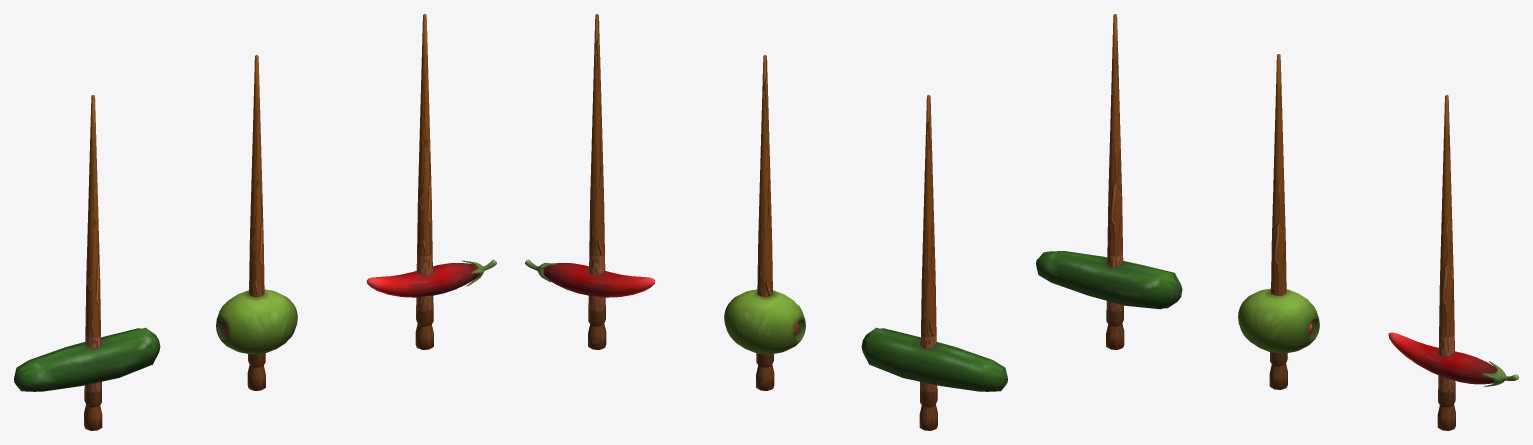
The model's file is SuarezM_PII_Armas_Texturizado_v01.fbx.
3 renders of one model, left to right at view 1: azimuth 30°, elevation 25°; view 2: azimuth 150°, elevation 25°; view 3: azimuth 330°, elevation 25°, orthographic.
Visible parts, largest first — view 1: Arma_pepinillo, Arma_aceituna, Arma_pimiento; view 2: Arma_pepinillo, Arma_aceituna, Arma_pimiento; view 3: Arma_pepinillo, Arma_aceituna, Arma_pimiento.
Part boxes in pixels (left/top/right/bottom): Arma_pepinillo: left=14, top=95, right=160, bottom=430; Arma_aceituna: left=216, top=55, right=297, bottom=390; Arma_pimiento: left=366, top=14, right=496, bottom=349; Arma_pepinillo: left=861, top=95, right=1007, bottom=430; Arma_aceituna: left=724, top=55, right=805, bottom=390; Arma_pimiento: left=525, top=14, right=655, bottom=349; Arma_pepinillo: left=1036, top=14, right=1182, bottom=349; Arma_aceituna: left=1238, top=54, right=1319, bottom=389; Arma_pimiento: left=1388, top=95, right=1518, bottom=430.
Bounding box in the file's own units: 645 × 429 × 74.63.
Materials: 1 (1 with a texture image).
